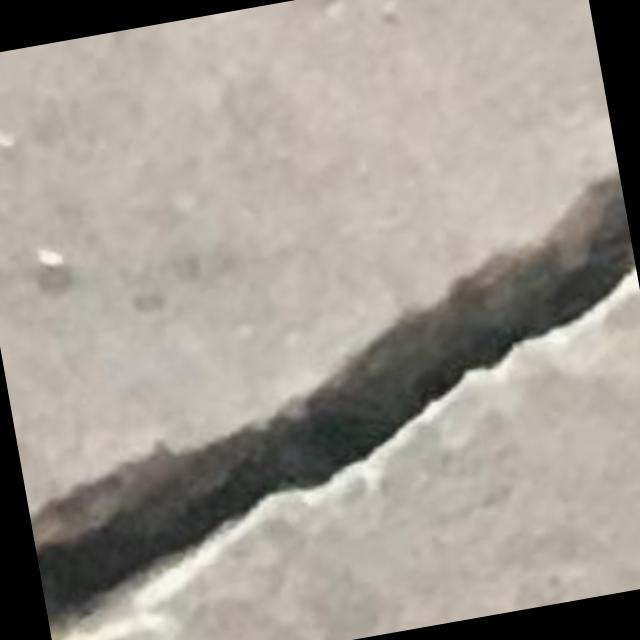crack: (31, 173, 635, 621)
